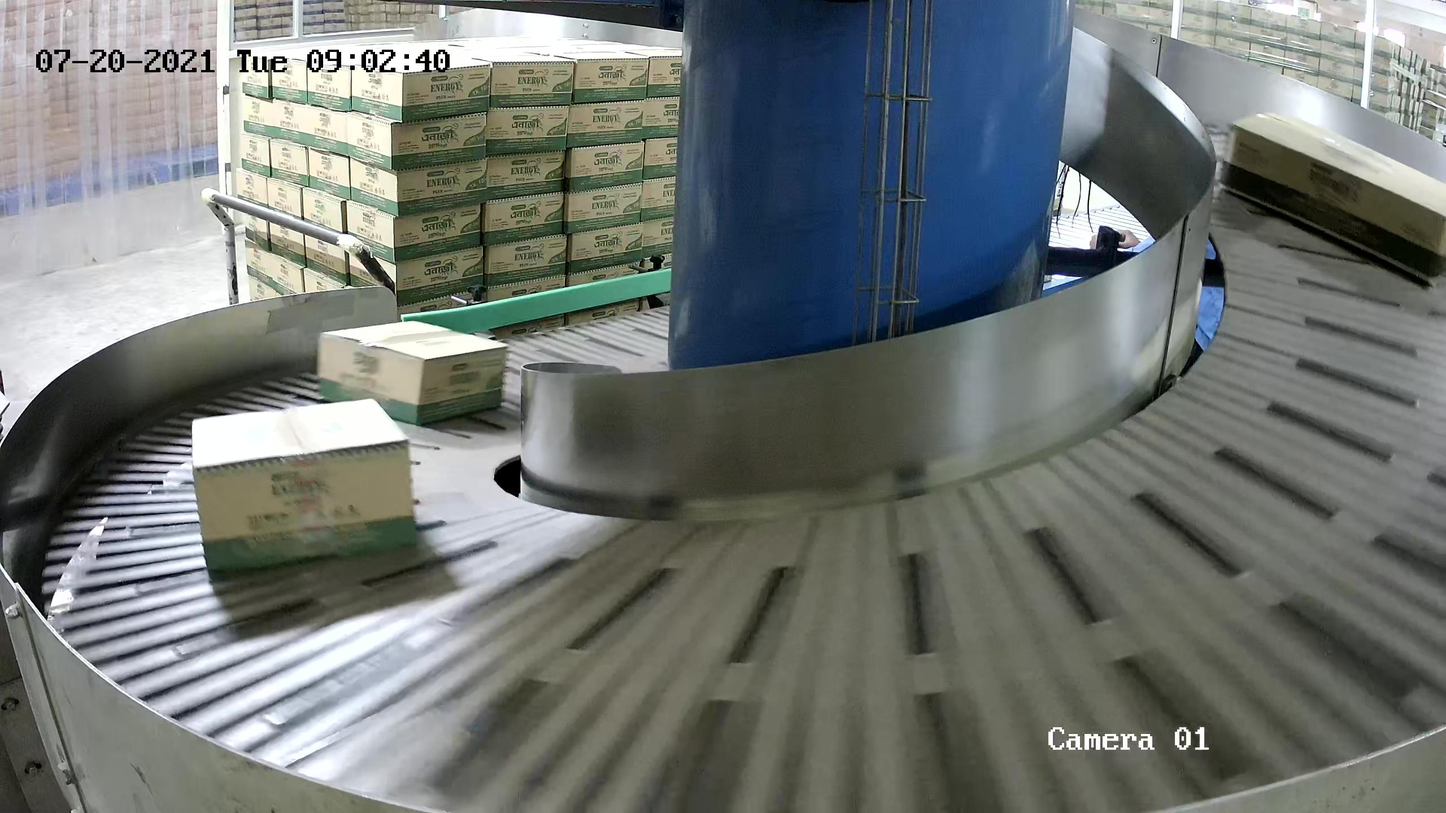Box: (1217, 108, 1446, 289), (190, 397, 420, 573), (315, 318, 511, 428)
